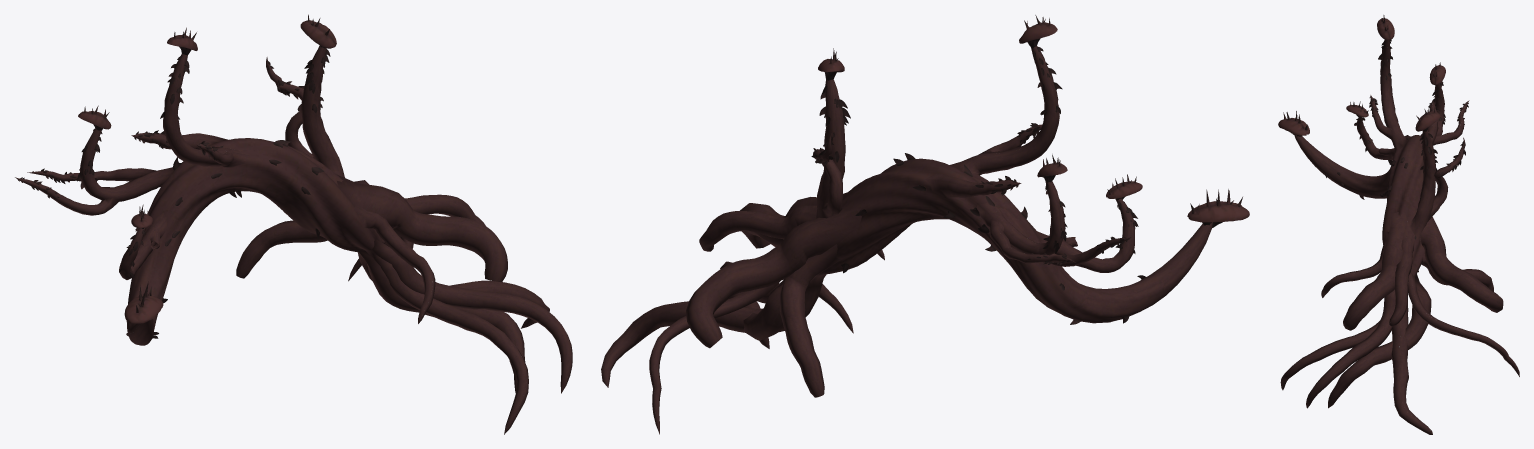
3 renders of one model, left to right at view 1: azimuth 30°, elevation 25°; view 2: azimuth 150°, elevation 25°; view 3: azimuth 270°, elevation 25°, orthographic. The views are drawn at different scales.
Parts seen in each view (by area): view 1: SM_Spiked_Plant_01_LOD0; view 2: SM_Spiked_Plant_01_LOD0; view 3: SM_Spiked_Plant_01_LOD0.
Boxes of the visible parts, x1,y1,x2,y2 form: SM_Spiked_Plant_01_LOD0: (15,14,572,434); SM_Spiked_Plant_01_LOD0: (601,15,1249,434); SM_Spiked_Plant_01_LOD0: (1278,15,1519,434).
Size of the model in its own units: 6.19 by 4.81 by 3.61.
Materials: 1 (1 with a texture image).
